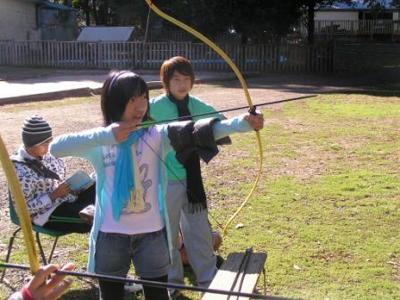person: (51, 68, 264, 300)
